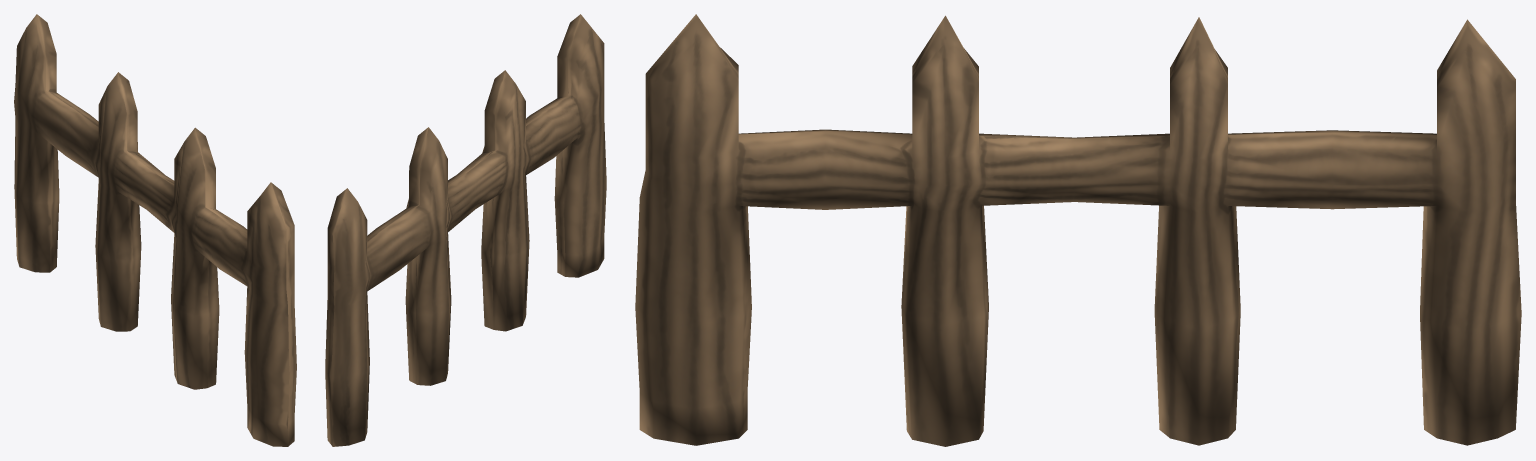
File: Cerca(meio).fbx
The picture shows the model from 3 angles, left to right: view 1: azimuth 30°, elevation 25°; view 2: azimuth 150°, elevation 25°; view 3: azimuth 270°, elevation 25°; orthographic projection. The views are drawn at different scales.
Parts seen in each view (by area): view 1: Cube; view 2: Cube; view 3: Cube.
Part boxes in pixels (box(x1,y1,x2,y2)): Cube: box(14, 14, 296, 446); Cube: box(325, 14, 606, 446); Cube: box(635, 14, 1521, 446).
Bounding box in the file's own units: 2.91 × 16.2 × 31.2.
